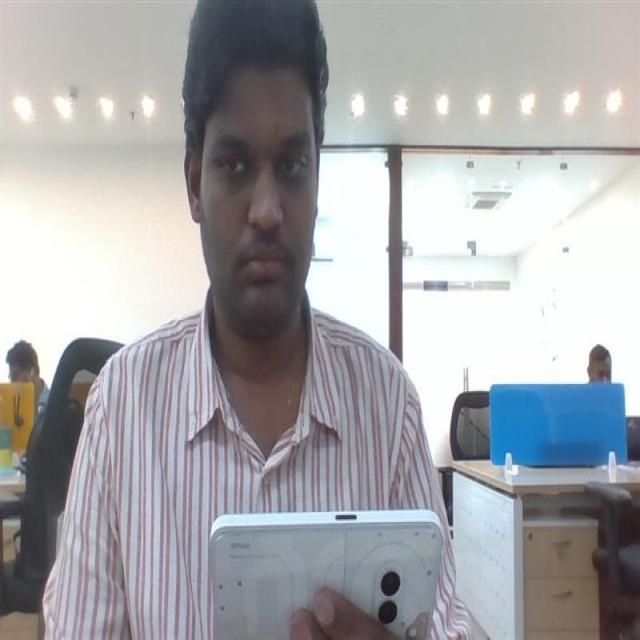phone: (208, 507, 446, 640)
